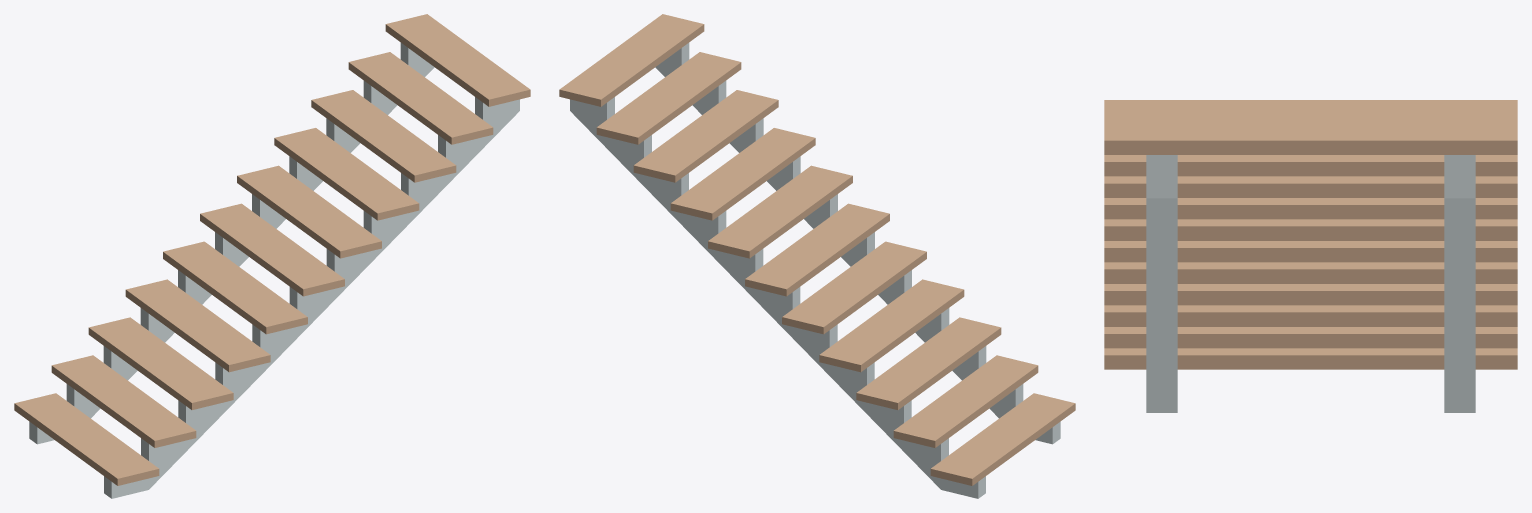
The model's file is stairsOpen.glb.
3 views of the same model, side by side, from view 1: azimuth 30°, elevation 25°; view 2: azimuth 150°, elevation 25°; view 3: azimuth 270°, elevation 25° (orthographic). The views are drawn at different scales.
Parts seen in each view (by area): view 1: stairsOpen(Clone), Group (×2); view 2: stairsOpen(Clone), Group (×2); view 3: stairsOpen(Clone), Group (×2).
Boxes of the visible parts, x1,y1,x2,y2 form: stairsOpen(Clone): (14,14,530,485); Group (×2): (29,42,519,498); stairsOpen(Clone): (559,14,1075,485); Group (×2): (570,42,1060,498); stairsOpen(Clone): (1104,100,1517,369); Group (×2): (1146,155,1475,412).
Bounding box in the file's own units: 1.82 × 1.34 × 0.79.
